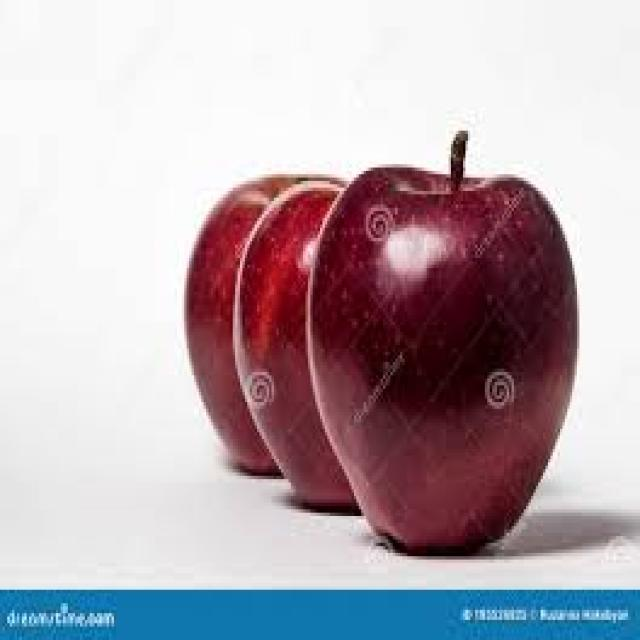non_orange: (304, 109, 606, 561), (202, 134, 468, 527), (157, 138, 348, 514)
